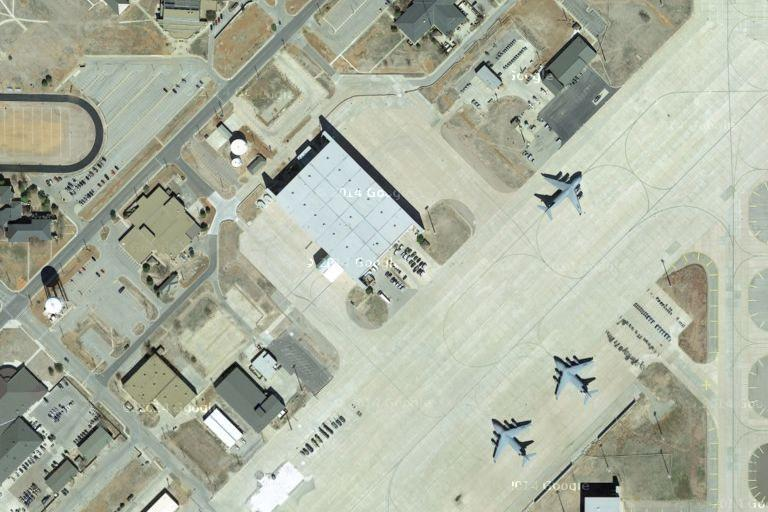C-17: (535, 168, 590, 221), (483, 415, 538, 468), (546, 353, 600, 405)
